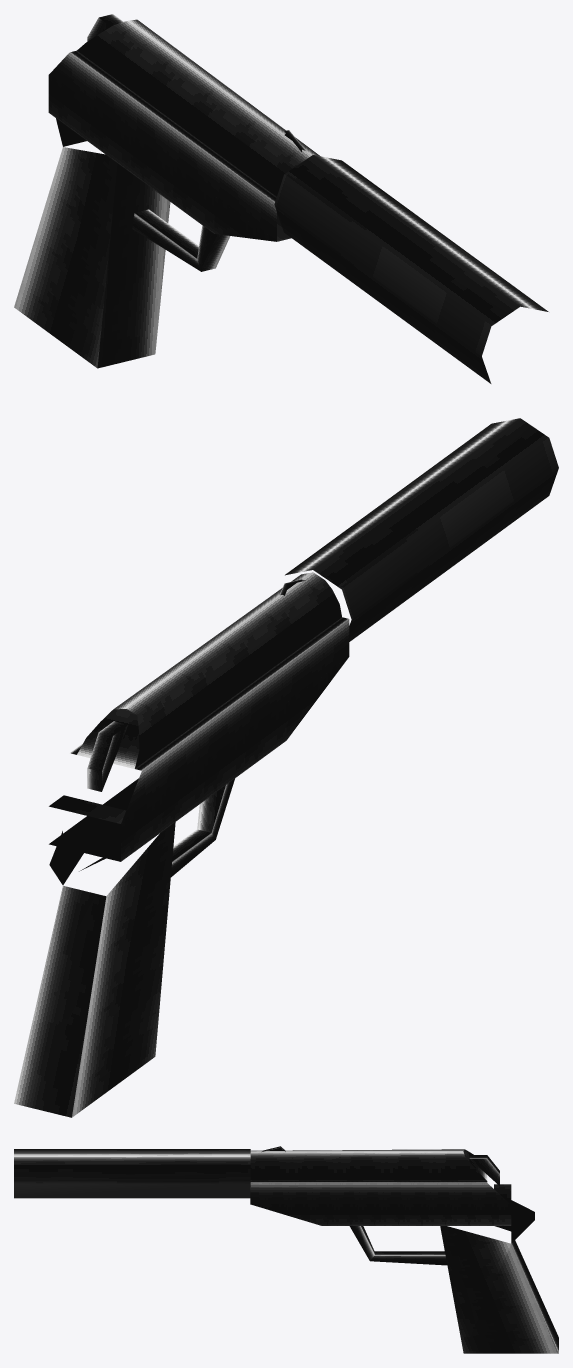
The model's file is gun_handless.glb.
3 renders of one model, top to bottom at view 1: azimuth 30°, elevation 25°; view 2: azimuth 150°, elevation 25°; view 3: azimuth 270°, elevation 25°, orthographic. The views are drawn at different scales.
Visible parts, largest first — view 1: m4; view 2: m4, m8; view 3: m4, m8.
Boxes of the visible parts, x1,y1,x2,y2 form: m4: (14,14,548,383); m4: (14,418,558,1117); m8: (49,583,296,884); m4: (14,1146,558,1353); m8: (267,1147,534,1243).
Size of the model in its own units: 32 by 138 by 343.
2 materials, 2 textured.
